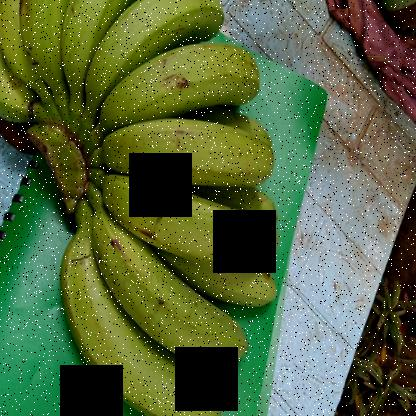freshunripe: (57, 232, 219, 415), (97, 110, 283, 194), (82, 1, 226, 101), (62, 1, 112, 93)
unripe: (88, 210, 246, 378), (93, 38, 266, 141), (113, 177, 280, 281), (12, 1, 78, 96)
